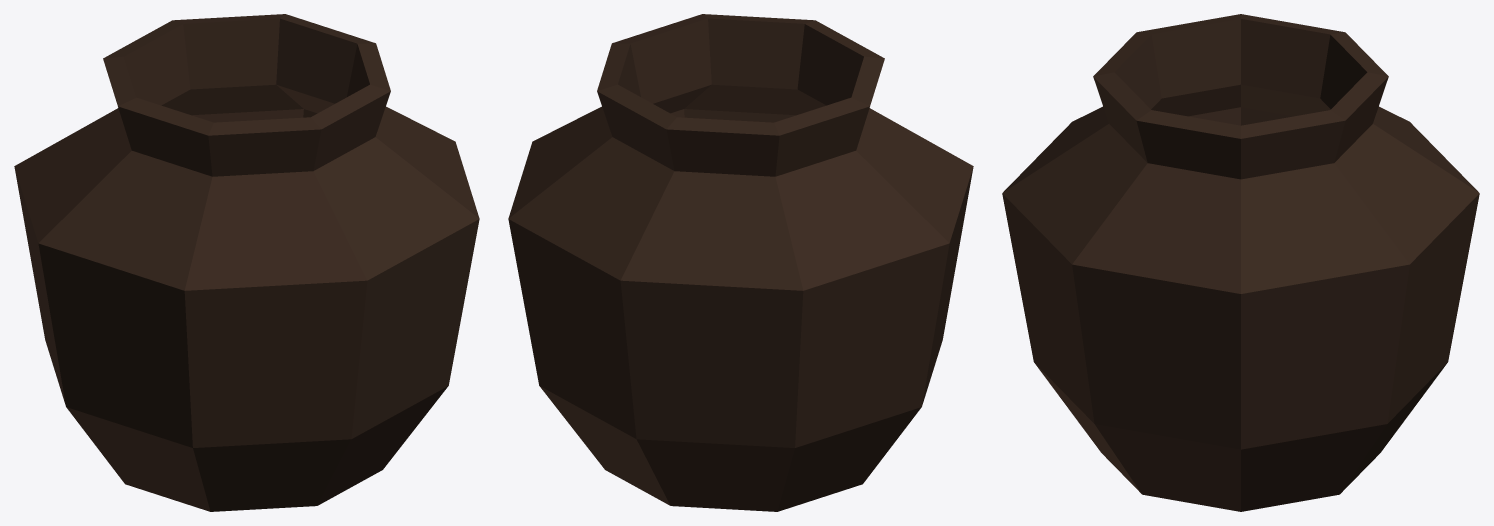
File: pot_02.glb
3 views of the same model, side by side, from view 1: azimuth 30°, elevation 25°; view 2: azimuth 150°, elevation 25°; view 3: azimuth 270°, elevation 25° (orthographic).
Visible parts, largest first — view 1: Pot_02; view 2: Pot_02; view 3: Pot_02.
Boxes of the visible parts, <box> form: Pot_02: <box>14,14,479,511</box>; Pot_02: <box>508,14,973,511</box>; Pot_02: <box>1002,14,1479,511</box>.
Bounding box in the file's own units: 0.4322 × 0.3801 × 0.4322.
1 material, 1 textured.
